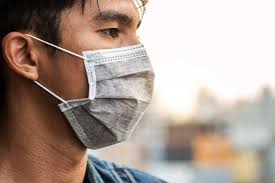surgical: (58, 44, 160, 148)
